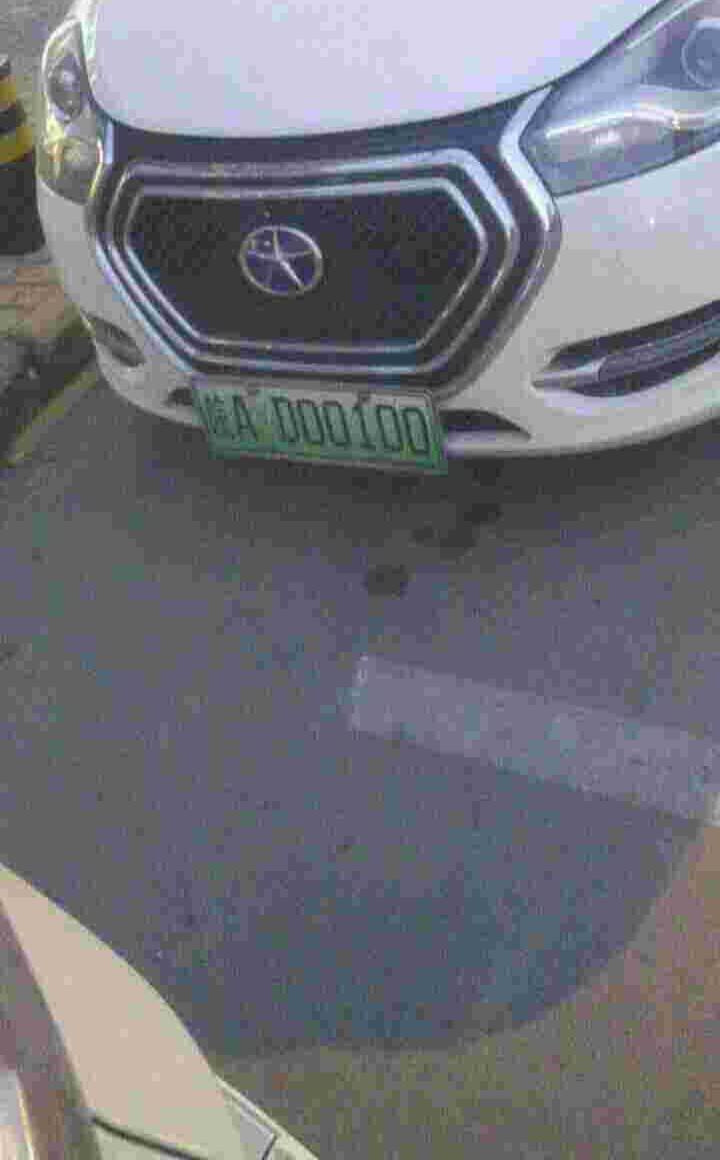car_green: (191, 376, 449, 477)
